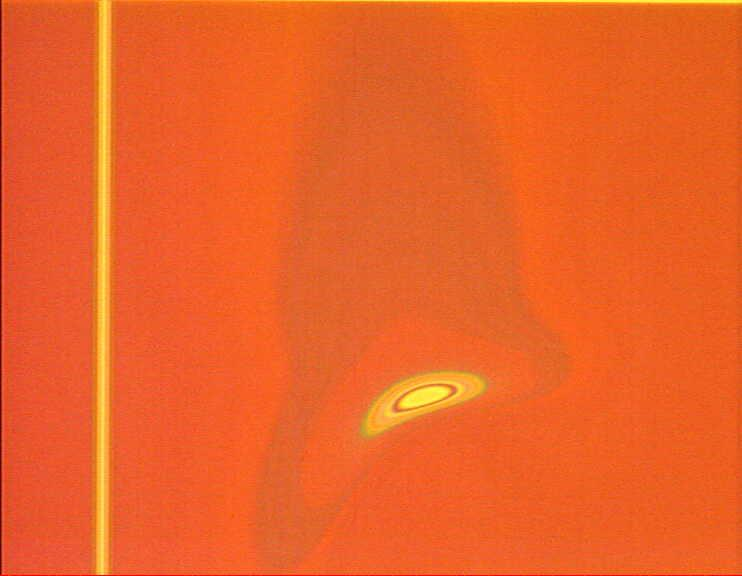PIQ PARTICLE: (360, 369, 491, 443)
